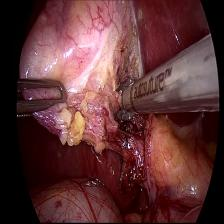Clipper: (114, 77, 140, 126)
Grasper: (13, 76, 73, 122)
